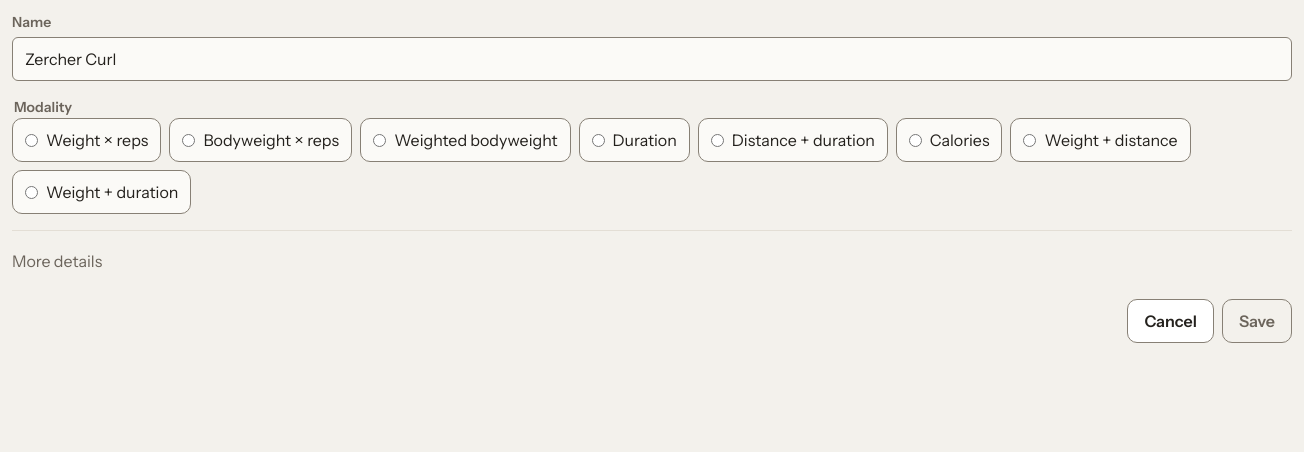
Test case: AC29 — create outcomes › any other failure → "Couldn't save. Try again." with the form still open
Click the radio button labelled "Duration": (598, 140) [592,134,604,146]
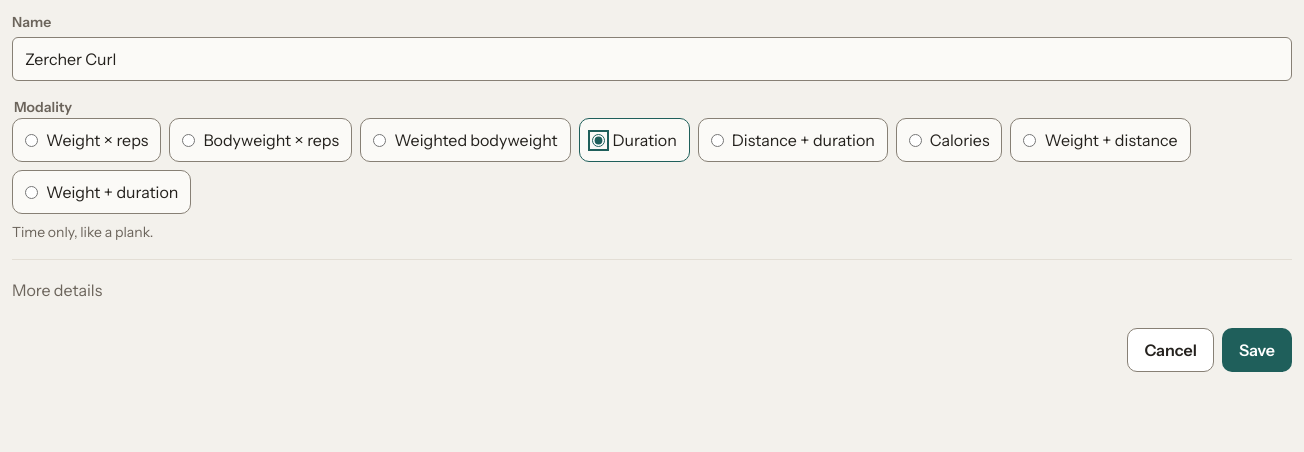
Click the button "Save": (1257, 350) [1222,328,1292,372]
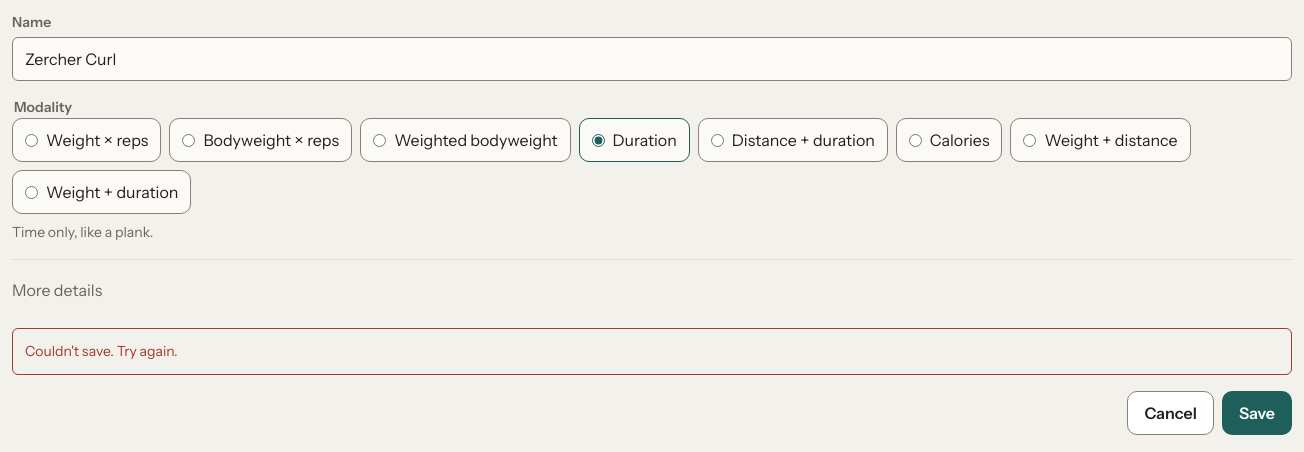
Expected: the field labelled "Name" holds "Zercher Curl", [12,37,1292,81]
Now the button "Save" is enabled, box [1222,391,1292,435]
Now the text "Couldn't save. Try again." is shown, box [12,328,1292,375]
